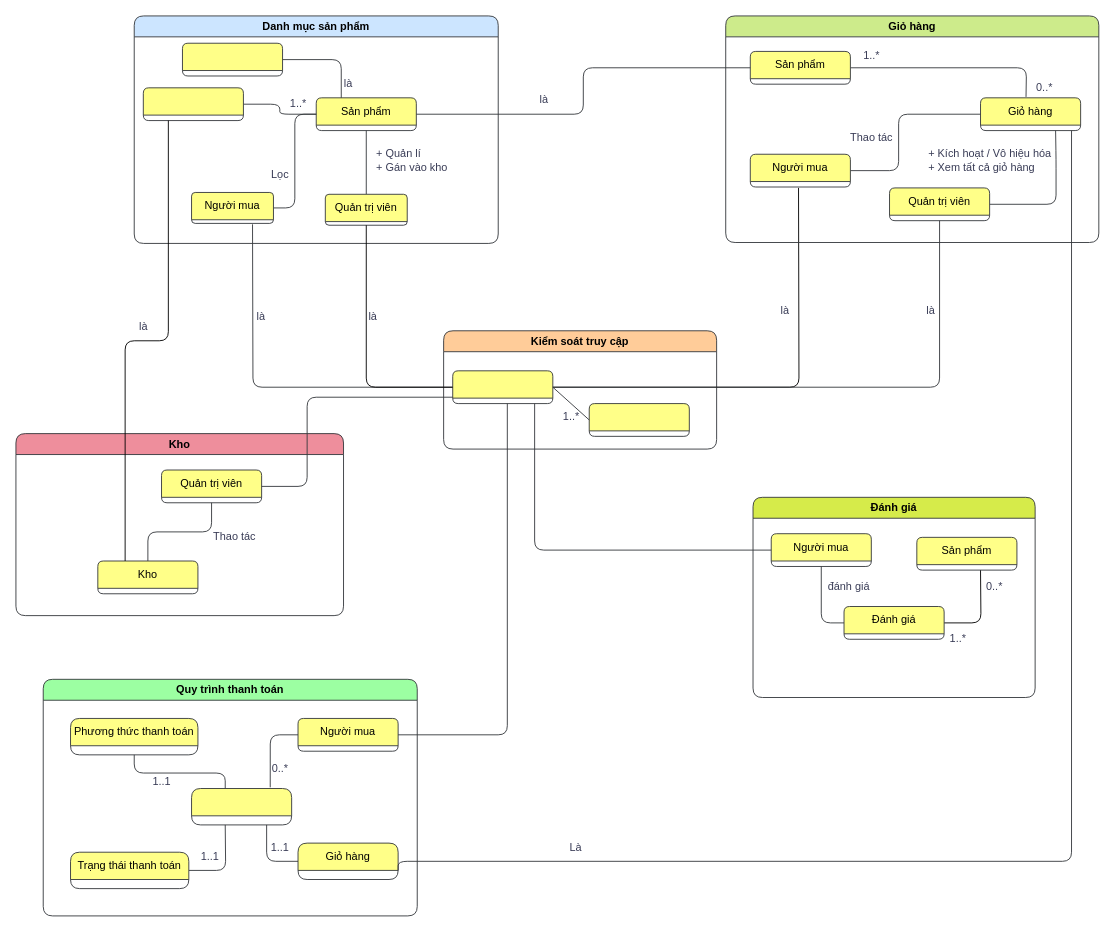
Image size: 1115x932. Some labels were removed from this diagram. Each missing label, with the centre of its shape:
"Người dùng" goes at (502,387).
"Sản phẩm nổi bật" goes at (232,59).
"Thanh toán" goes at (241,806).
"Thông tin kho" goes at (192,104).
"Vai trò" goes at (638,419).
